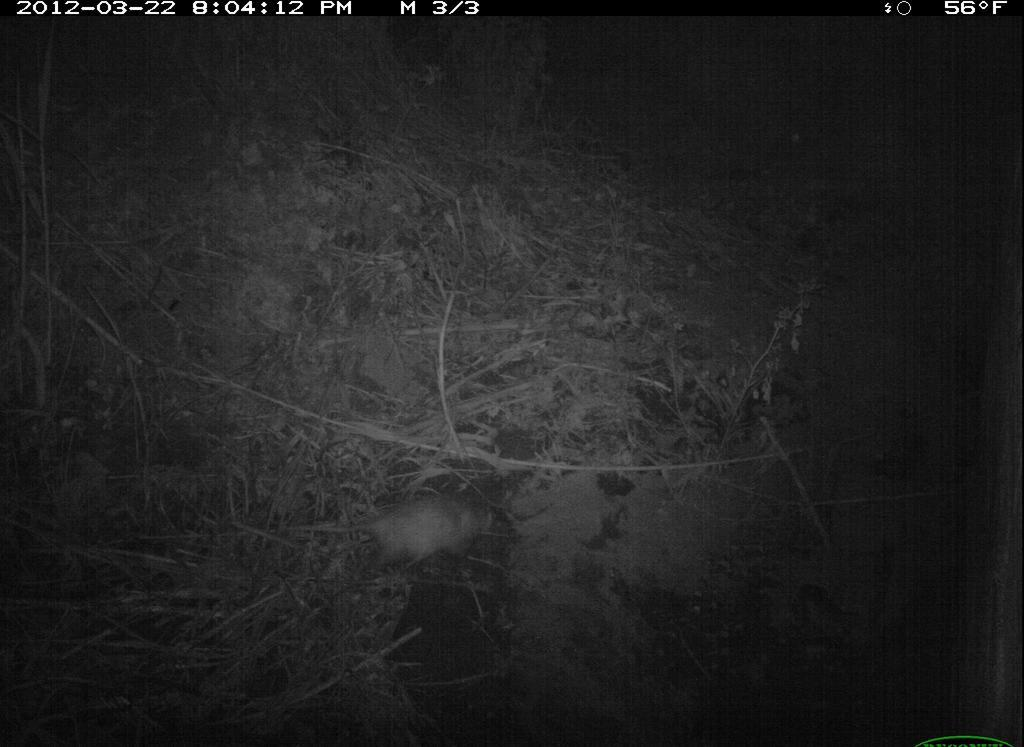opossum: (271, 496, 502, 579)
